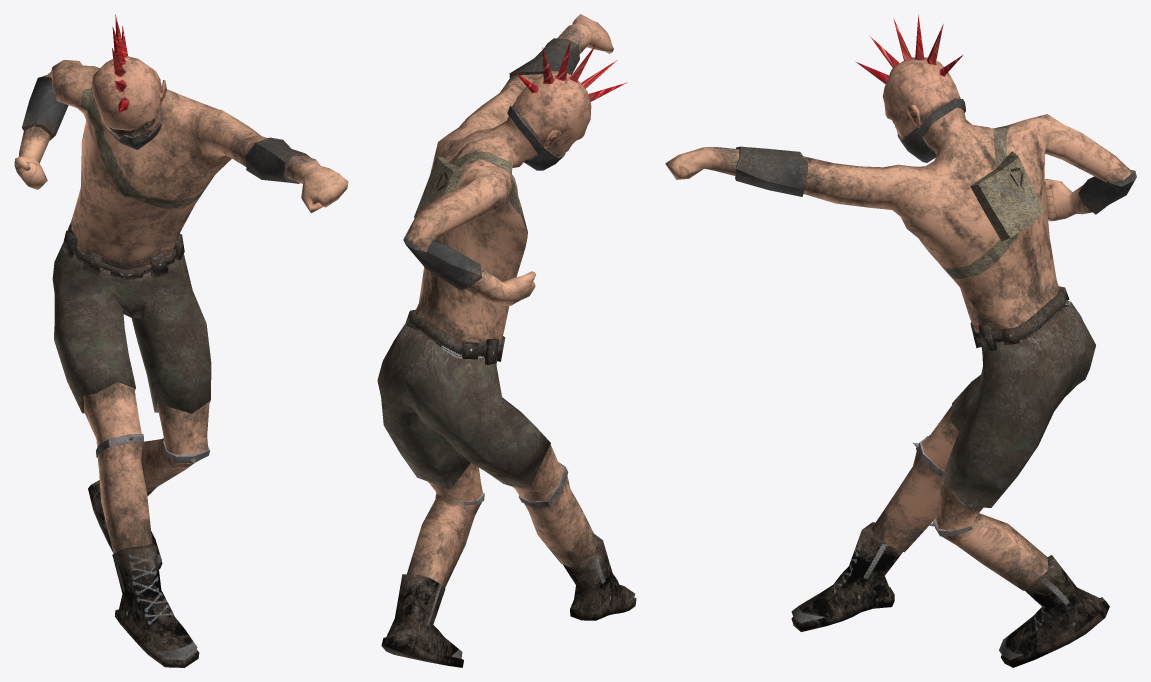
The model's file is Anim_ataque_d3_npc2.0030.obj.
3 views of the same model, side by side, from view 1: azimuth 30°, elevation 25°; view 2: azimuth 150°, elevation 25°; view 3: azimuth 270°, elevation 25° (orthographic).
Visible parts, largest first — view 1: polySurface1; view 2: polySurface1; view 3: polySurface1.
Part boxes in pixels (<box>): polySurface1: <box>14,14,348,667</box>; polySurface1: <box>377,14,636,667</box>; polySurface1: <box>665,15,1136,667</box>.
Bounding box in the file's own units: 2.53 × 9.09 × 6.37.
2 materials, 2 textured.
